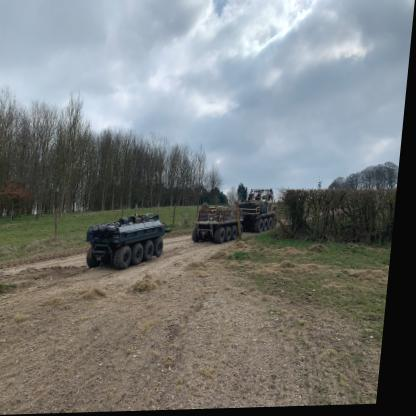UGV: (90, 212, 177, 271), (196, 204, 251, 245)
